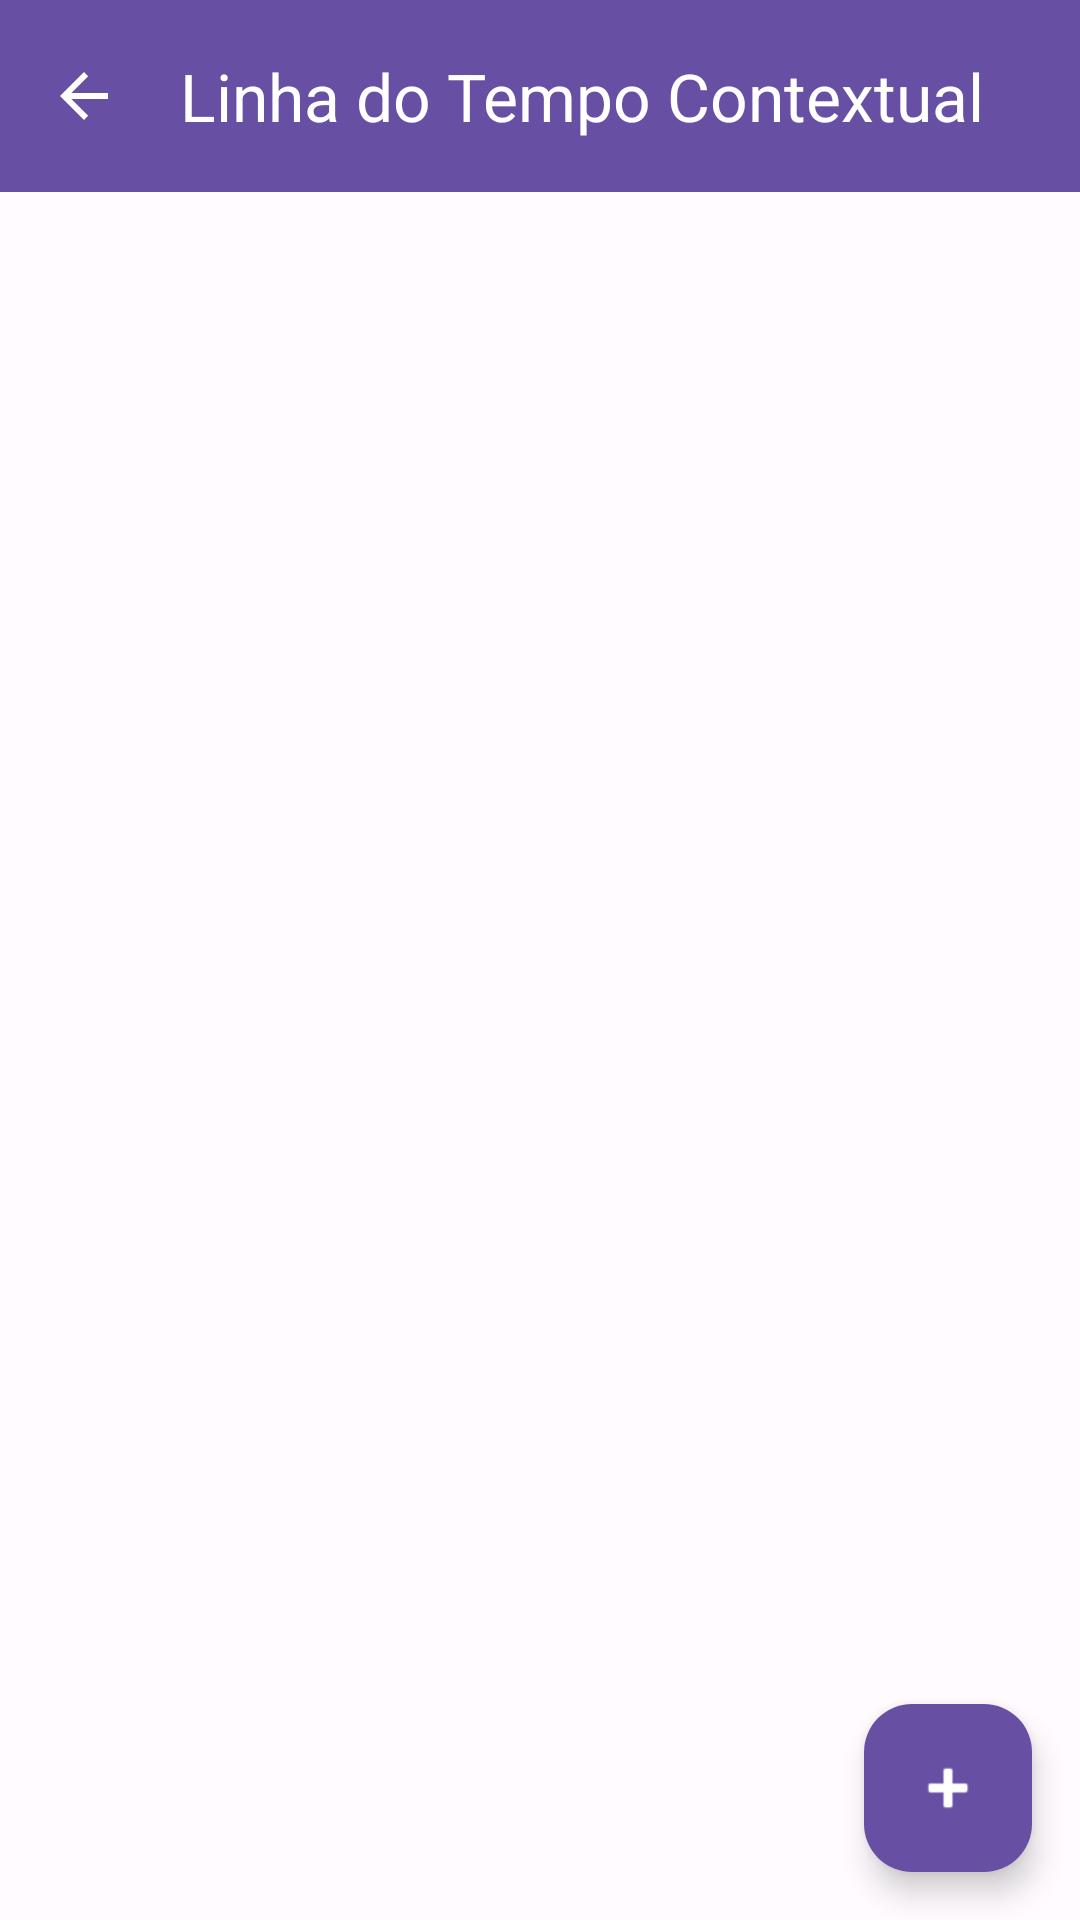

Screen size 1080x1920. Icon name, then its box in pixels as (x1, y1, x2, y2):
Adicionar novo momento rápido: (864, 1704, 1032, 1872)
